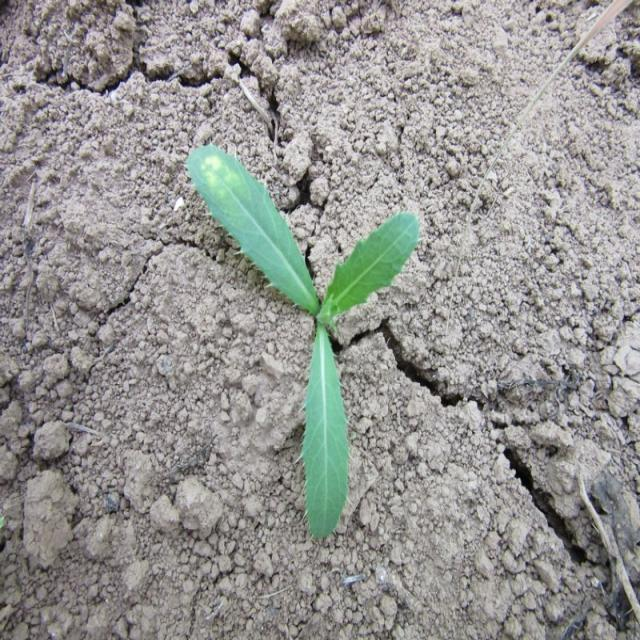field_thistle: (161, 115, 440, 542)
